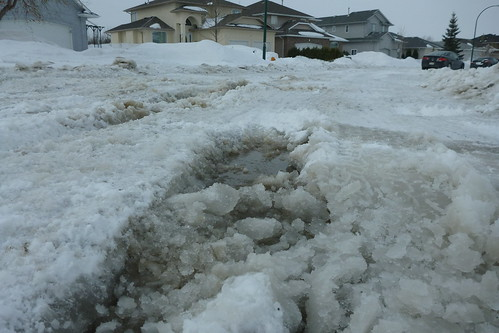building: (105, 1, 272, 61), (256, 1, 342, 69), (319, 5, 405, 62)
car: (418, 47, 459, 77)
